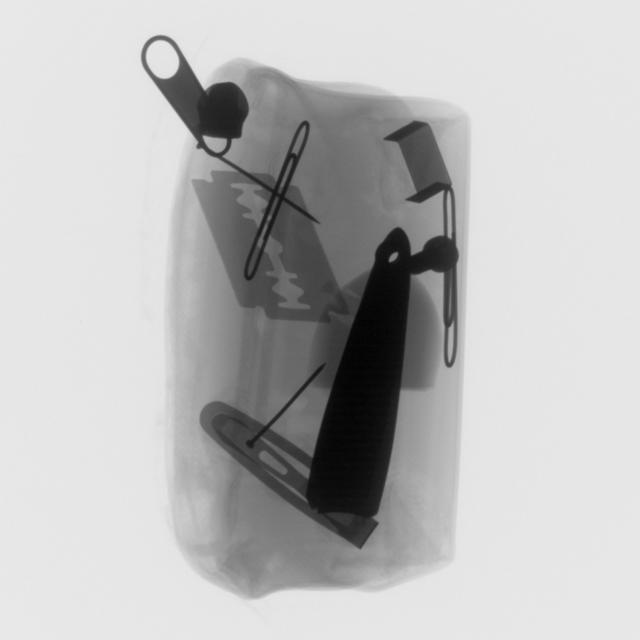pin: (443, 193, 460, 372)
razor: (192, 164, 353, 326), (382, 114, 458, 203)
snail: (239, 358, 329, 456)
